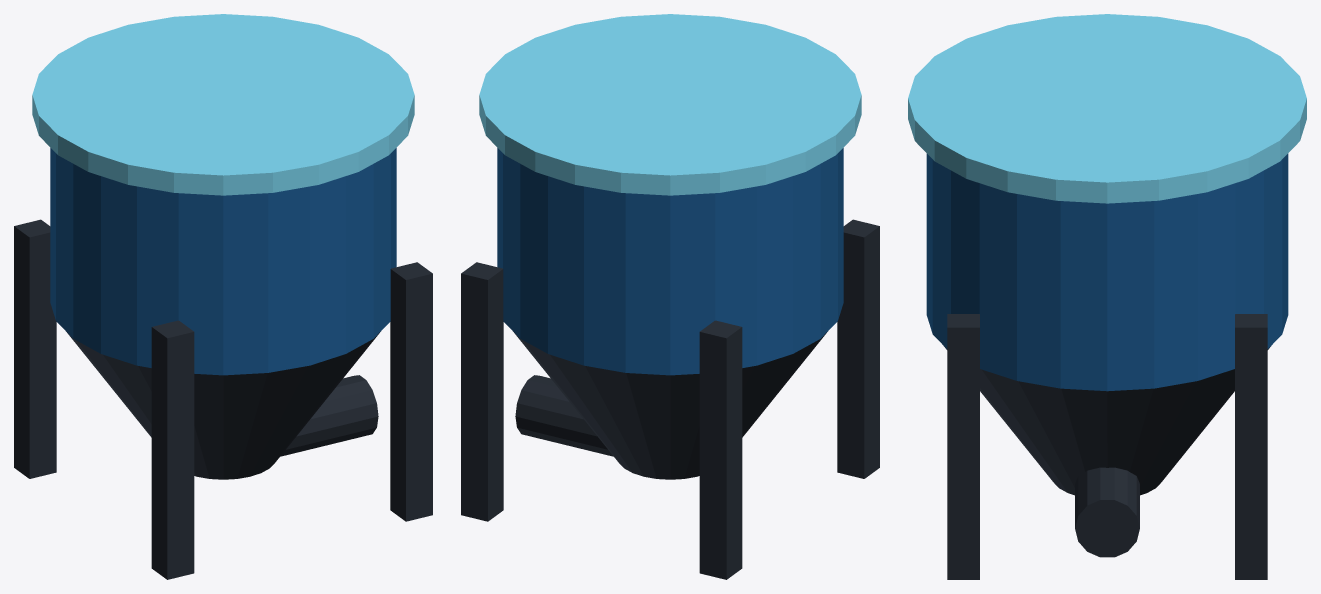
File: dense_medium_sump_dm301.glb
3 renders of one model, left to right at view 1: azimuth 30°, elevation 25°; view 2: azimuth 150°, elevation 25°; view 3: azimuth 270°, elevation 25°, orthographic. The views are drawn at different scales.
Visible parts, largest first — view 1: DM301_UpperTank, DM301_TopRim, DM301_ConeBottom, DM301_Leg_1, DM301_Leg_2, DM301_Leg_3, DM301_SuctionOut; view 2: DM301_UpperTank, DM301_TopRim, DM301_ConeBottom, DM301_Leg_3, DM301_Leg_4, DM301_Leg_1, DM301_SuctionOut; view 3: DM301_UpperTank, DM301_TopRim, DM301_ConeBottom, DM301_Leg_2, DM301_Leg_4, DM301_SuctionOut.
Part boxes in pixels (<box>): DM301_UpperTank: <box>50,148,396,375</box>; DM301_TopRim: <box>32,14,414,195</box>; DM301_ConeBottom: <box>66,331,380,479</box>; DM301_Leg_1: <box>151,320,194,579</box>; DM301_Leg_2: <box>390,262,432,521</box>; DM301_Leg_3: <box>14,219,56,478</box>; DM301_SuctionOut: <box>280,375,378,456</box>; DM301_UpperTank: <box>497,148,843,375</box>; DM301_TopRim: <box>479,14,861,195</box>; DM301_ConeBottom: <box>513,331,827,479</box>; DM301_Leg_3: <box>699,320,742,579</box>; DM301_Leg_4: <box>461,262,503,521</box>; DM301_Leg_1: <box>837,219,879,478</box>; DM301_SuctionOut: <box>515,375,613,456</box>; DM301_UpperTank: <box>926,153,1288,391</box>; DM301_TopRim: <box>908,14,1306,203</box>; DM301_ConeBottom: <box>944,346,1270,495</box>; DM301_Leg_2: <box>947,314,979,579</box>; DM301_Leg_4: <box>1235,314,1267,579</box>; DM301_SuctionOut: <box>1075,467,1139,557</box>.
Size of the model in its own units: 1.72 by 1.97 by 1.72.
